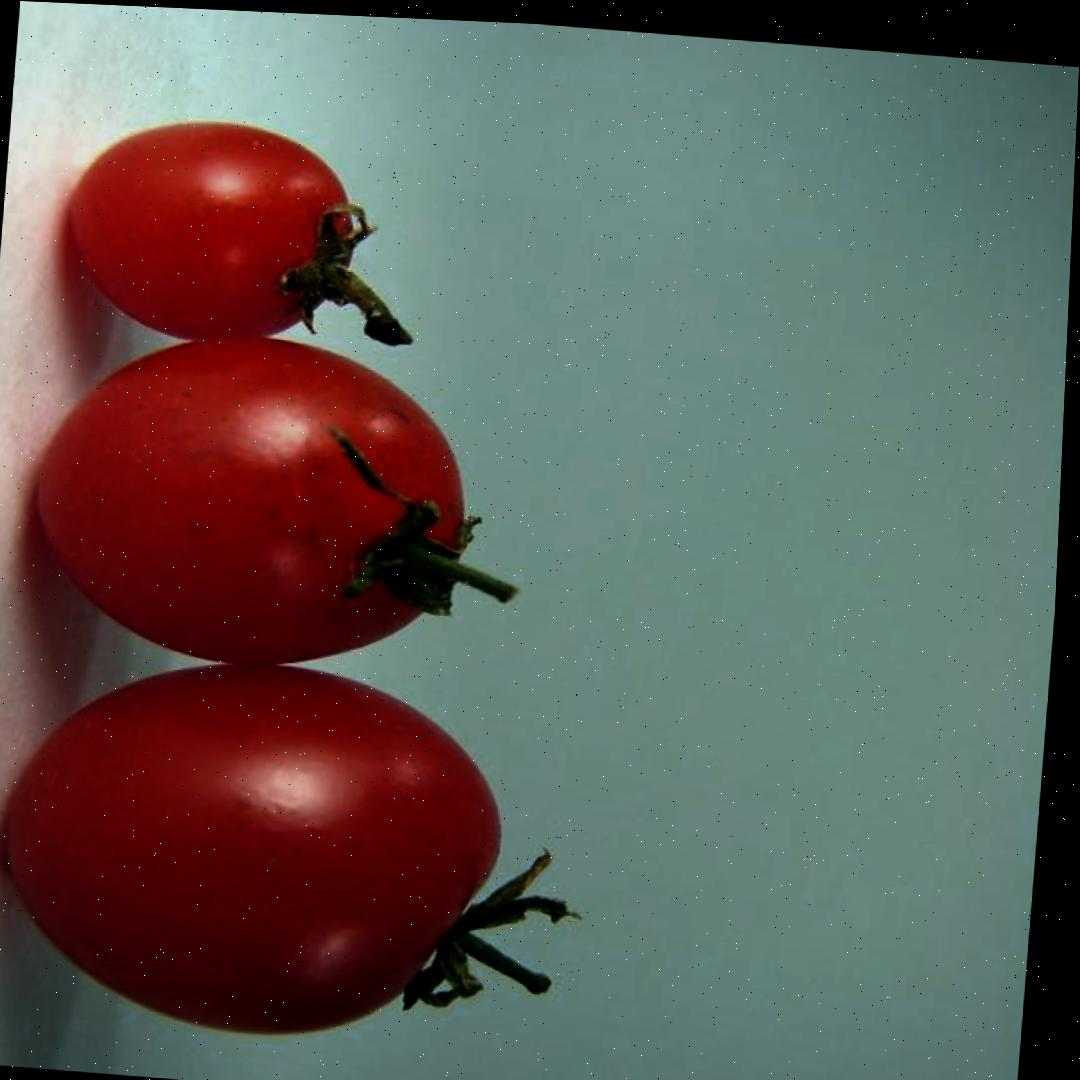matang: (0, 640, 515, 1053), (26, 320, 476, 681), (61, 110, 363, 352)
